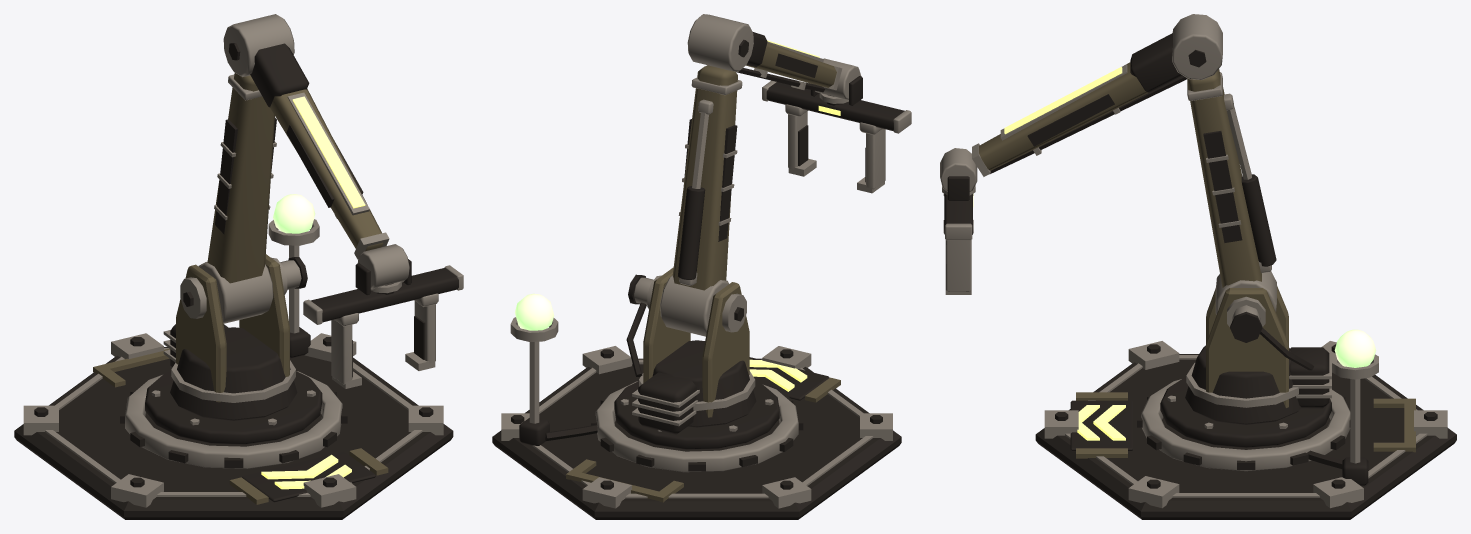
The model's file is fac_arm.glb.
The picture shows the model from 3 angles, left to right: view 1: azimuth 30°, elevation 25°; view 2: azimuth 150°, elevation 25°; view 3: azimuth 270°, elevation 25°; orthographic projection. The views are drawn at different scales.
Visible parts, largest first — view 1: base, turn, upper, fore, wrist, lamp, fingerL, fingerR; view 2: base, turn, upper, fore, wrist, lamp, fingerL, fingerR; view 3: base, turn, upper, fore, lamp, wrist, fingerL.
Boxes of the visible parts, x1,y1,x2,y2 form: base: (14, 245, 453, 519); turn: (145, 254, 322, 444); upper: (198, 14, 294, 323); fore: (250, 43, 409, 289); wrist: (303, 259, 463, 324); lamp: (268, 194, 319, 245); fingerL: (405, 293, 438, 370); fingerR: (331, 313, 361, 388); base: (492, 341, 901, 519); turn: (614, 267, 779, 449); upper: (660, 14, 753, 336); fore: (736, 32, 860, 100); wrist: (762, 76, 911, 133); lamp: (510, 293, 558, 341); fingerL: (785, 104, 816, 176); fingerR: (857, 122, 885, 193); base: (1035, 341, 1456, 519); turn: (1160, 286, 1331, 447); upper: (1172, 14, 1276, 314); fore: (940, 33, 1187, 191); lamp: (1332, 329, 1378, 379); wrist: (942, 176, 975, 240); fingerL: (943, 220, 973, 294).
Size of the model in its own units: 1.42 by 1.78 by 1.99.
